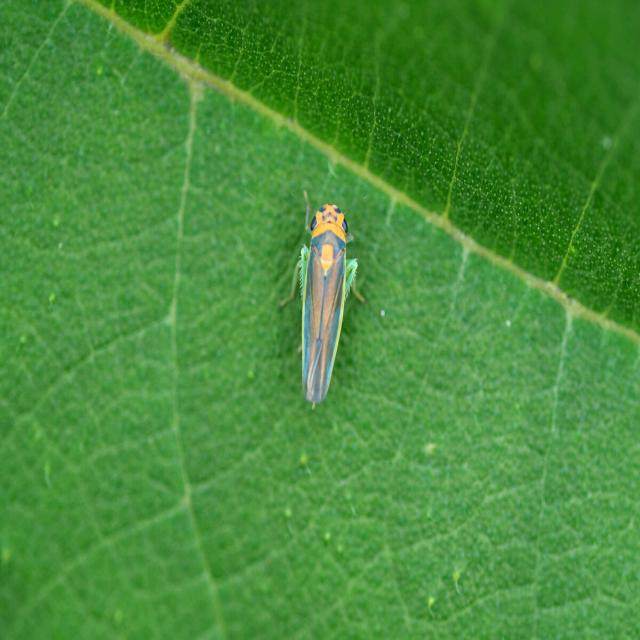Yechan: (292, 190, 353, 410)
